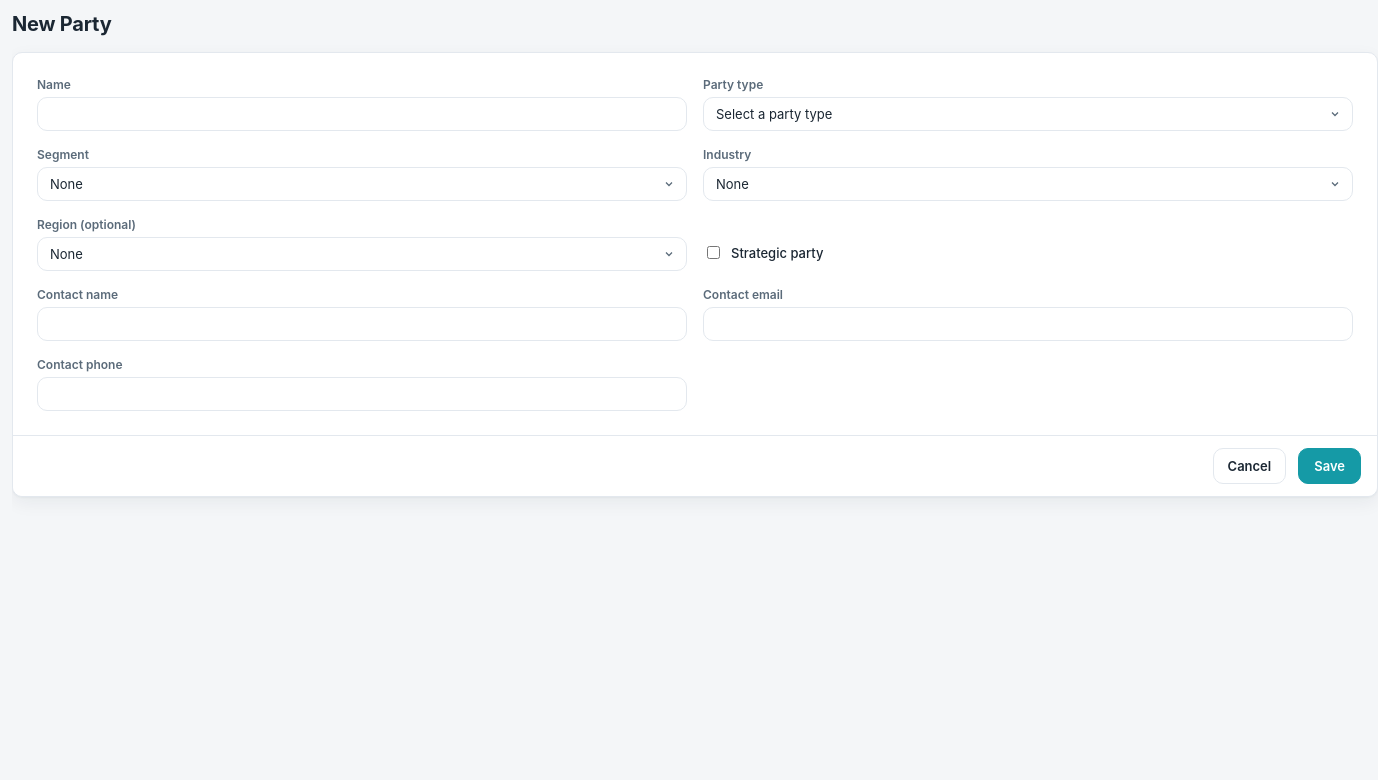
Test: PartyFormPage › blur_WhenContactEmailIsInvalidFormat_ShouldShowInlineFormatError
Expected: the dropdown labelled "Party type" is shown, [703,97,1353,131]
In the field labelled "Contact email": (1028,324) [703,307,1353,341], type "not-an-email"
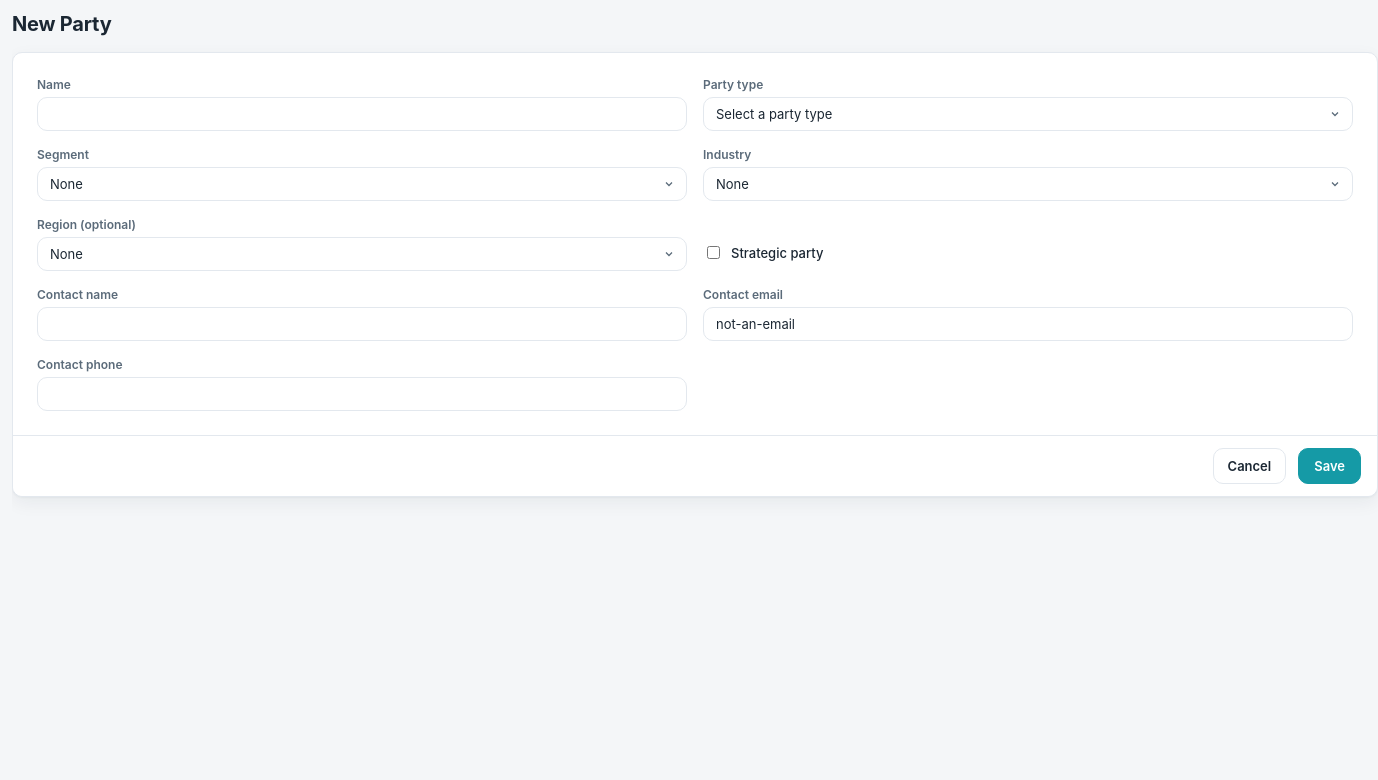
Leave the field labelled "Contact email", box [703,307,1353,341]
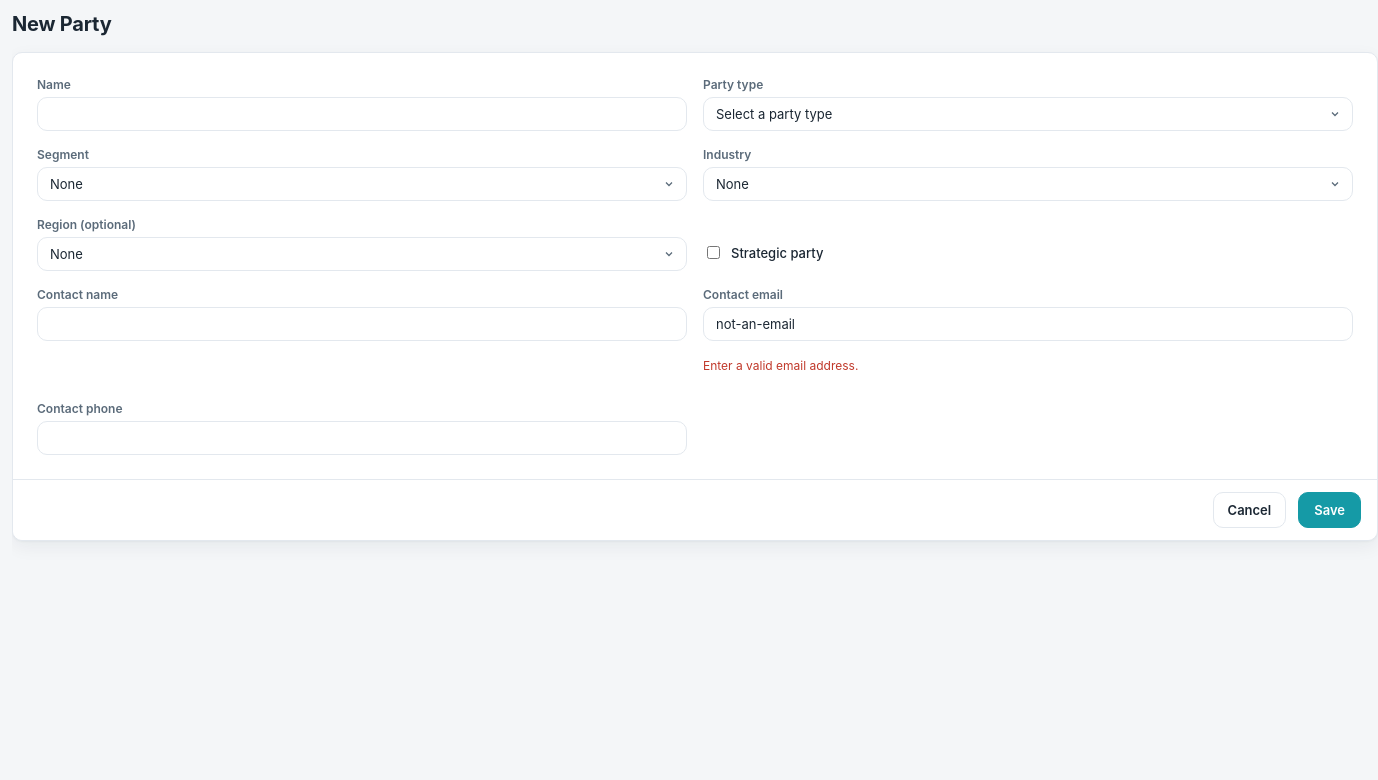
Now the text "Enter a valid email address." is shown, box [703,358,858,373]
